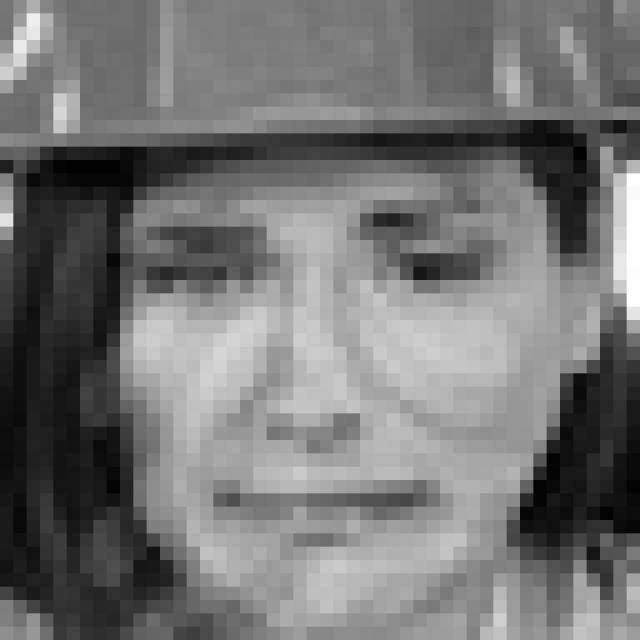sad: (130, 178, 520, 581)
